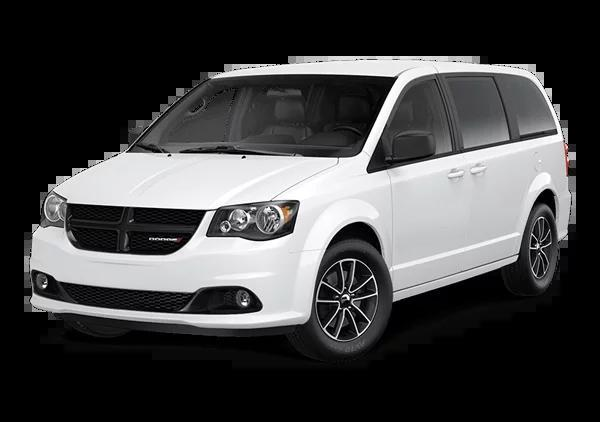Minivan: (29, 61, 572, 363)
